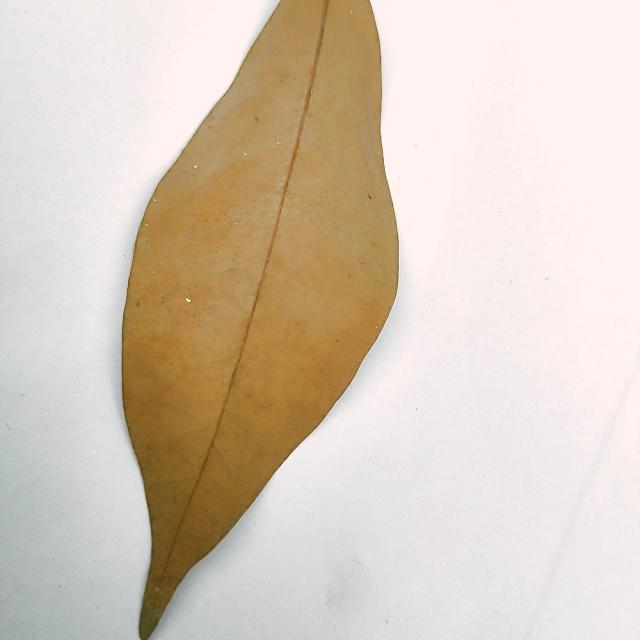Dry_Leaf-Lychee: (119, 0, 399, 639)
